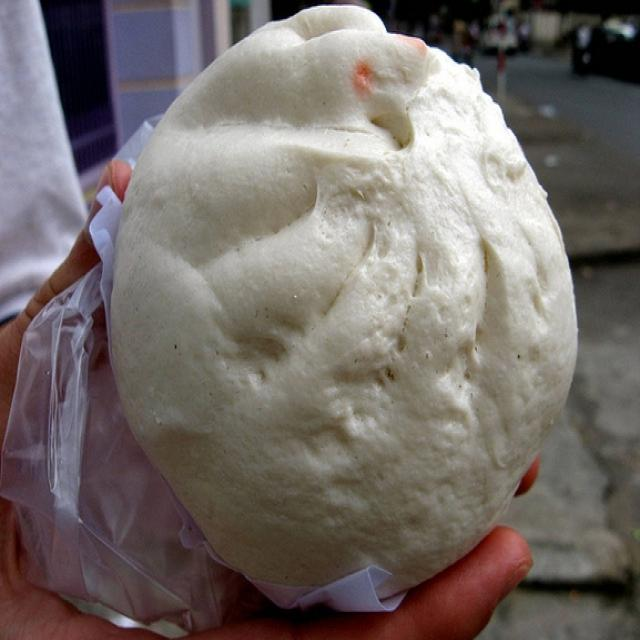带馅早点: (93, 10, 578, 575)
